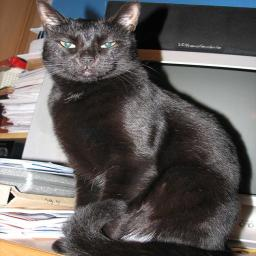catnose: (78, 56, 96, 68)
